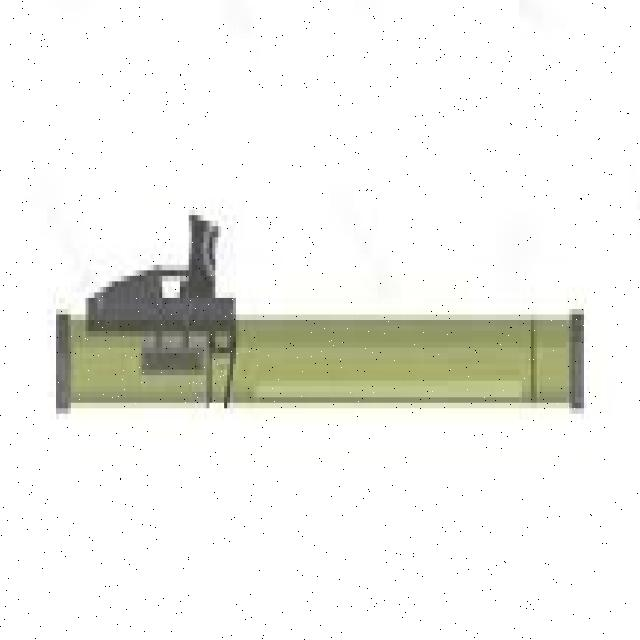bazooka: (52, 208, 590, 426)
